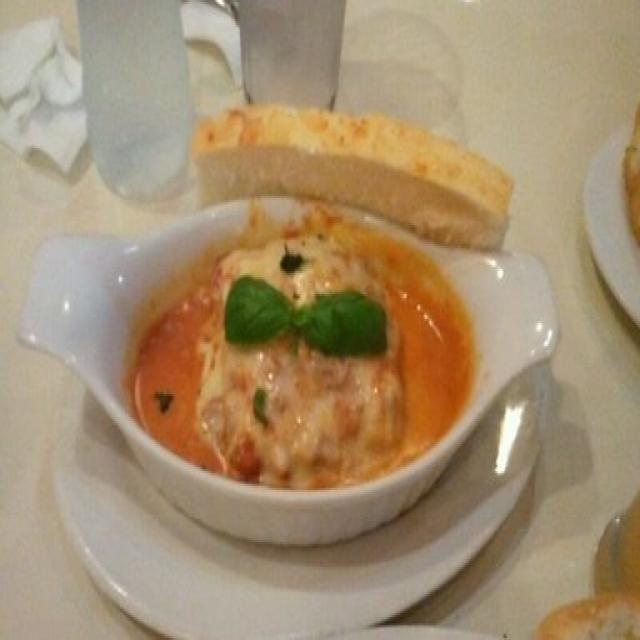Lasagna: (161, 221, 465, 521)
